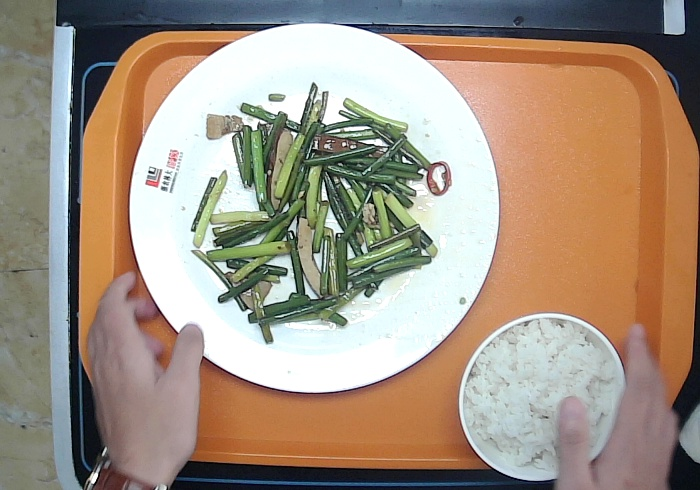ZNLD-Da_Yuan_Pan: (131, 16, 505, 395)
ZNLD-Fan_Wan: (456, 309, 633, 485)
